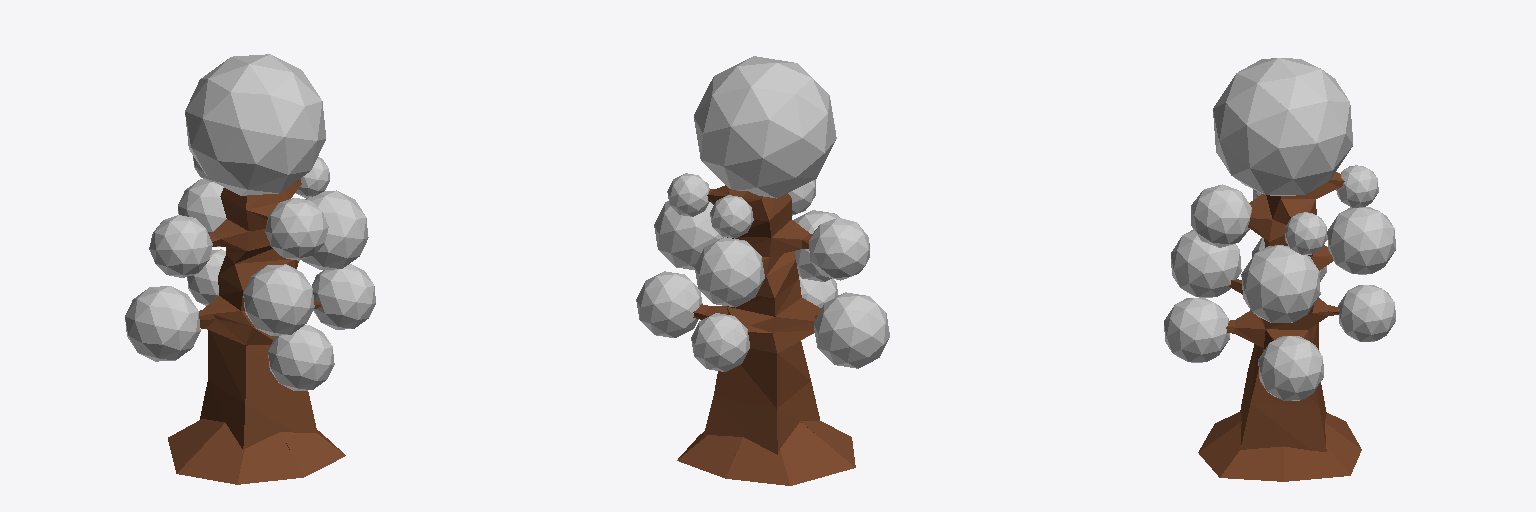
The picture shows the model from 3 angles: view 1: azimuth 30°, elevation 25°; view 2: azimuth 150°, elevation 25°; view 3: azimuth 270°, elevation 25°; orthographic projection.
Parts seen in each view (by area): view 1: Икосфера, Куб, Икосфера.004, Cube.002, Икосфера.003, Икосфера.008, Икосфера.006, Икосфера.002, Икосфера.005, Икосфера.009_Икосфера.014, Икосфера.001, Cube (+3 smaller); view 2: Куб, Икосфера, Cube.003, Икосфера.004, Икосфера.001, Икосфера.006, Икосфера.005, Икосфера.002, Икосфера.007, Cube.001, Икосфера.010_Икосфера.015, Икосфера.011_Икосфера.016 (+4 smaller); view 3: Икосфера, Куб, Икосфера.002, Икосфера.001, Икосфера.006, Икосфера.003, Икосфера.008, Икосфера.009_Икосфера.014, Cube, Икосфера.007, Cube.001, Икосфера.011_Икосфера.016 (+1 smaller).
Boxes of the visible parts, x1,y1,x2,y2 form: Икосфера: [185, 54, 325, 195]; Куб: [199, 179, 320, 449]; Икосфера.004: [125, 286, 200, 361]; Cube.002: [177, 423, 303, 484]; Икосфера.003: [243, 264, 314, 335]; Икосфера.008: [268, 325, 334, 390]; Икосфера.006: [312, 264, 375, 329]; Икосфера.002: [302, 190, 368, 269]; Икосфера.005: [149, 215, 212, 277]; Икосфера.009_Икосфера.014: [265, 198, 328, 260]; Икосфера.001: [178, 179, 226, 246]; Cube: [281, 430, 345, 476]; Куб: [693, 185, 821, 454]; Икосфера: [694, 56, 836, 198]; Cube.003: [726, 422, 854, 485]; Икосфера.004: [814, 292, 889, 368]; Икосфера.001: [695, 237, 764, 307]; Икосфера.006: [636, 271, 702, 337]; Икосфера.005: [809, 218, 869, 280]; Икосфера.002: [654, 201, 726, 269]; Икосфера.007: [691, 313, 749, 371]; Cube.001: [677, 431, 742, 478]; Икосфера.010_Икосфера.015: [710, 195, 753, 238]; Икосфера.011_Икосфера.016: [667, 173, 709, 216]; Икосфера: [1213, 58, 1352, 195]; Куб: [1226, 172, 1344, 451]; Икосфера.002: [1241, 245, 1320, 322]; Икосфера.001: [1327, 207, 1395, 274]; Икосфера.006: [1258, 336, 1323, 400]; Икосфера.003: [1171, 229, 1241, 297]; Икосфера.008: [1164, 298, 1229, 362]; Икосфера.009_Икосфера.014: [1191, 184, 1251, 247]; Cube: [1198, 422, 1283, 481]; Икосфера.007: [1338, 285, 1395, 341]; Cube.001: [1284, 423, 1361, 481]; Икосфера.011_Икосфера.016: [1285, 212, 1327, 254].
Bounding box in the file's own units: 7.55 × 11.52 × 6.24.
2 materials, 1 textured.